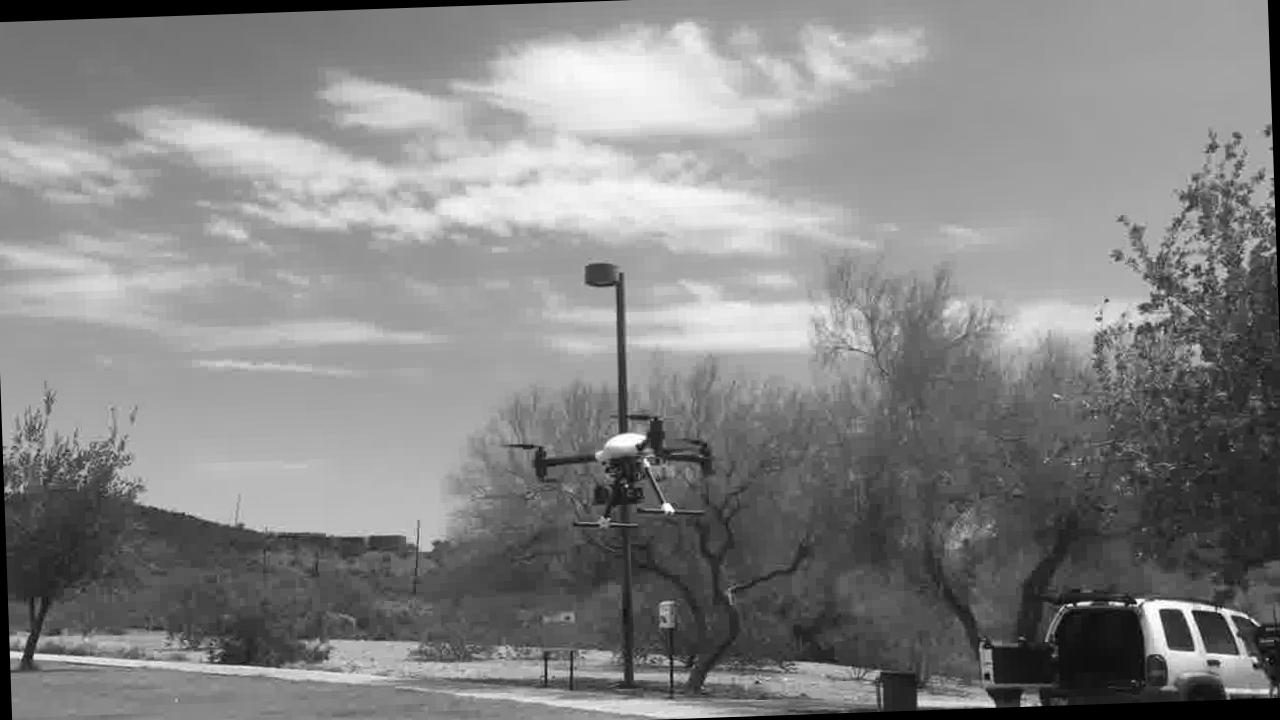drone: (529, 406, 717, 530)
